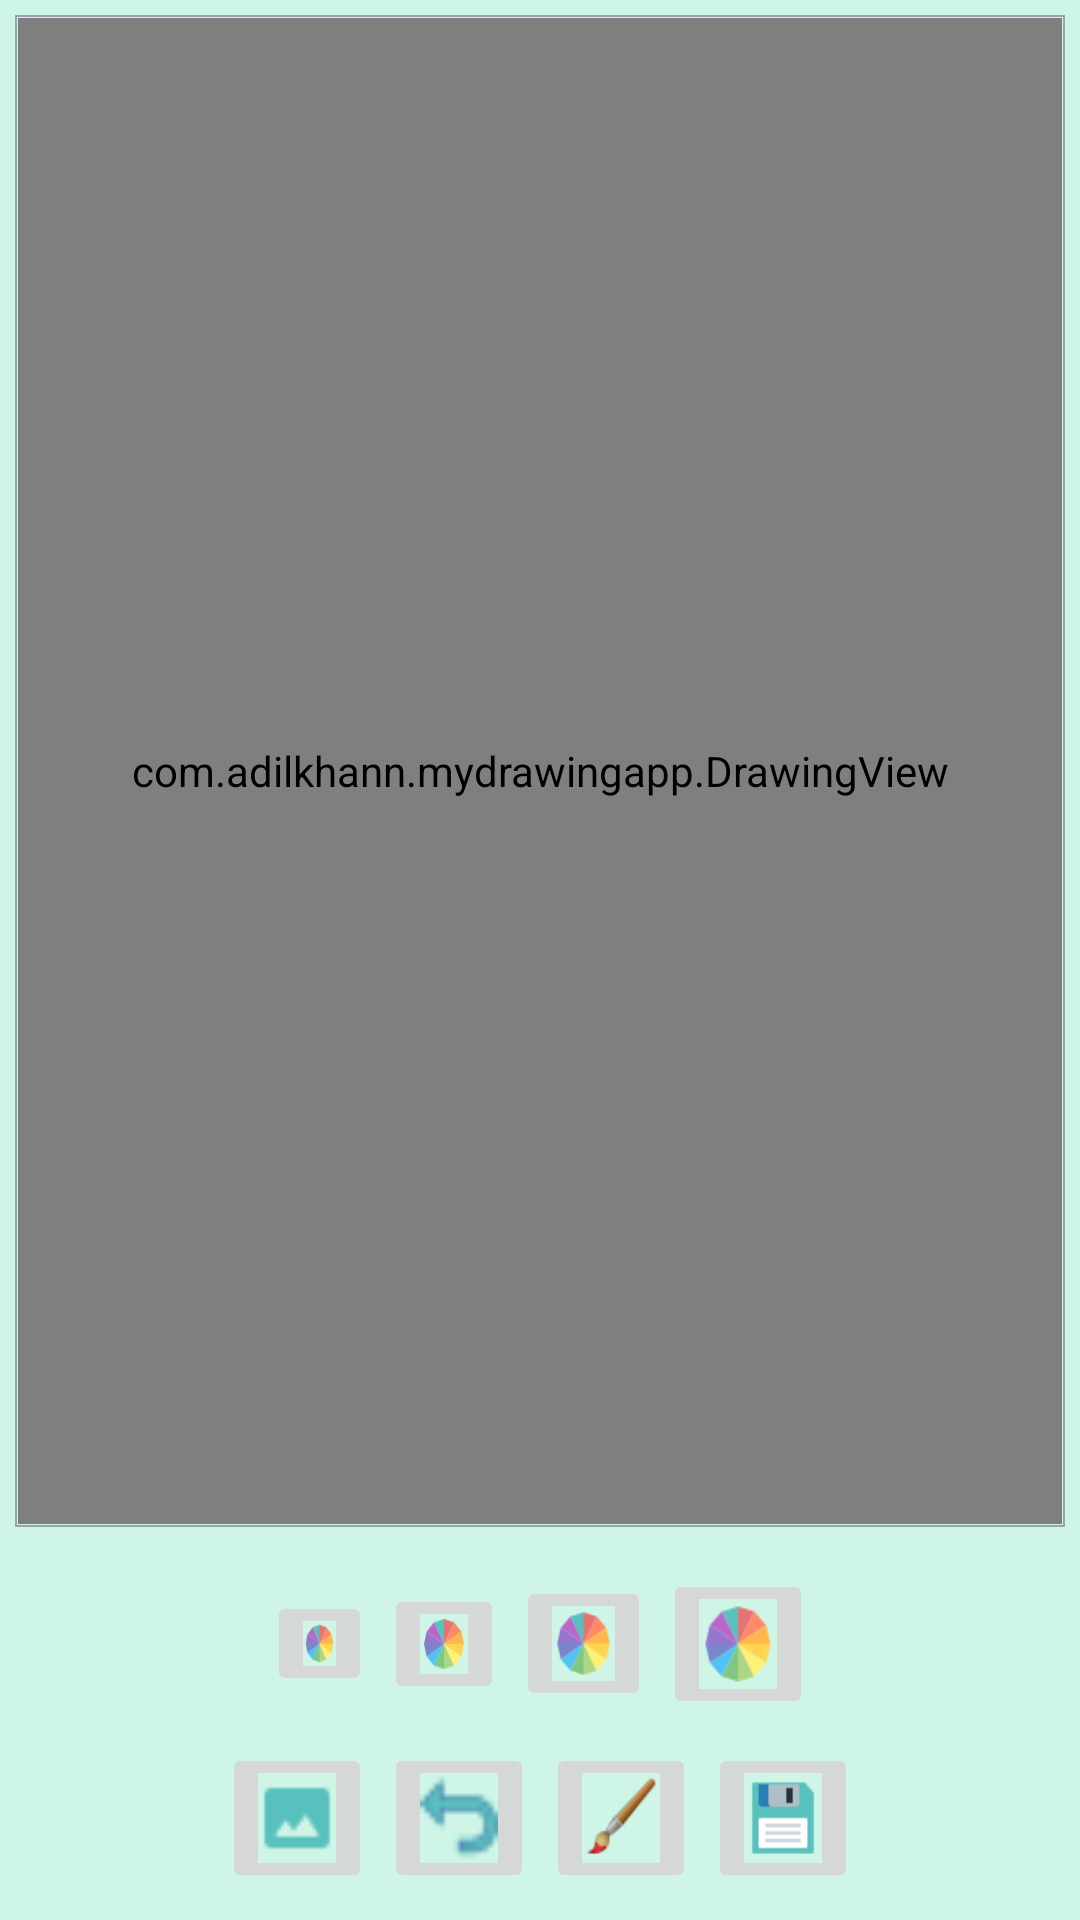

Where icons sit on this 1080 x 1920 app screen, as [left=x1, top=y1, right=x2, bottom=y2]:
brush: [left=558, top=1761, right=684, bottom=1875]
gallery: [left=234, top=1761, right=360, bottom=1875]
save: [left=720, top=1761, right=846, bottom=1875]
undo: [left=396, top=1761, right=522, bottom=1875]
